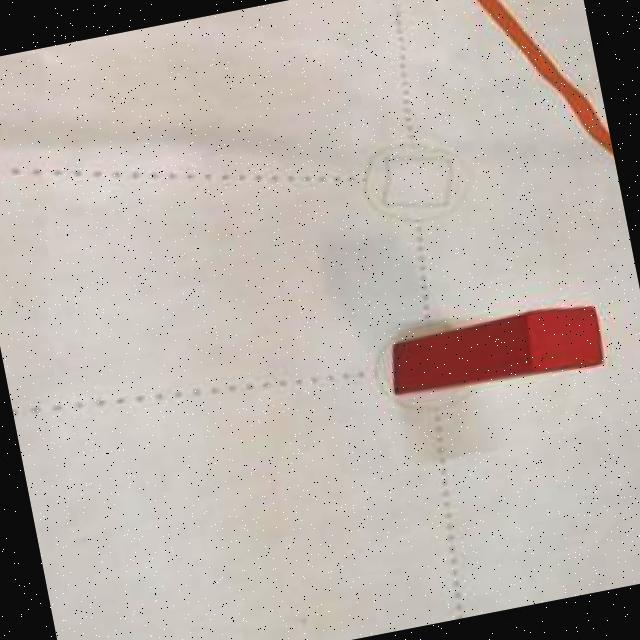redbox: (384, 295, 607, 405)
